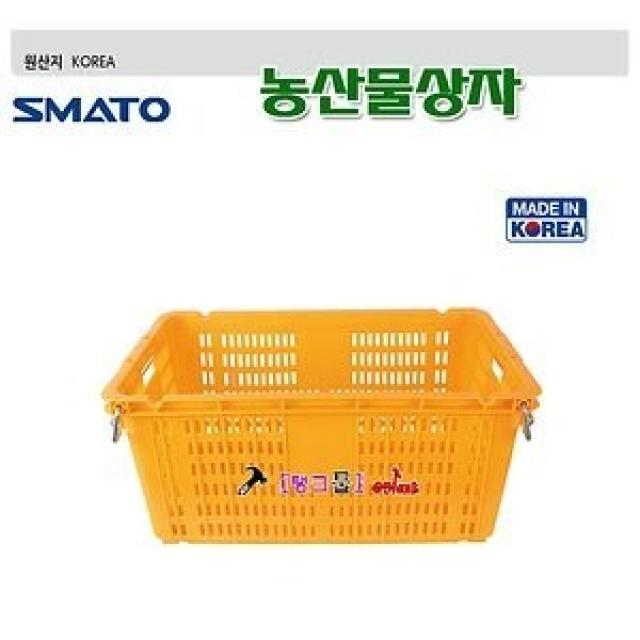basket: (104, 311, 542, 544)
